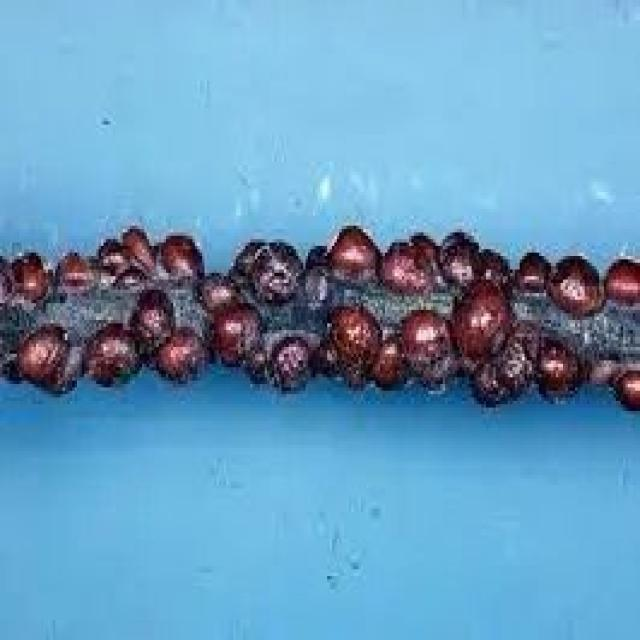BlackScale: (0, 217, 638, 409)
